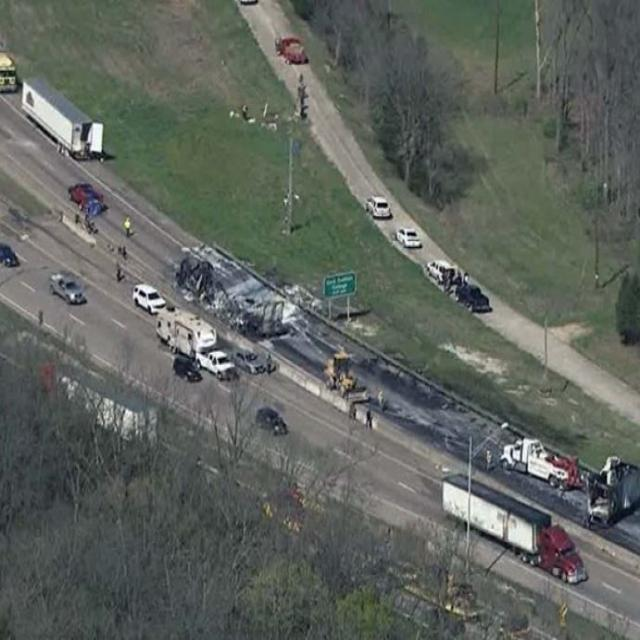traffic_incident: (158, 244, 308, 342)
